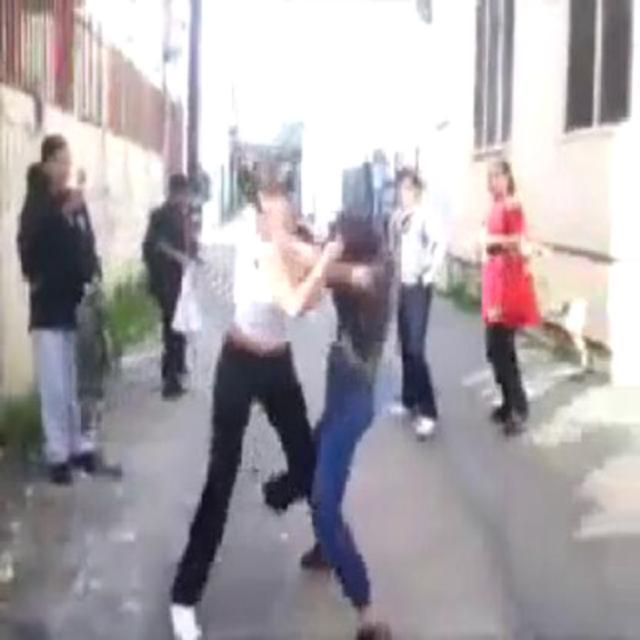fight: (175, 158, 394, 638)
